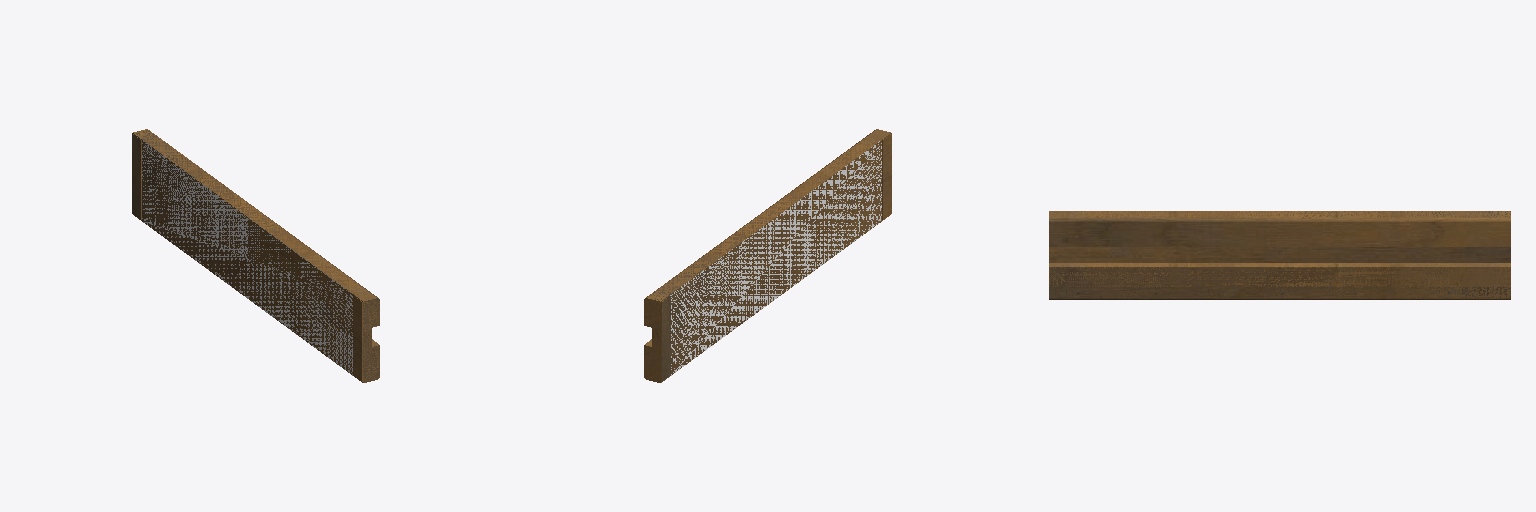
3 views of the same model, side by side, from view 1: azimuth 30°, elevation 25°; view 2: azimuth 150°, elevation 25°; view 3: azimuth 270°, elevation 25° (orthographic).
Visible parts, largest first — view 1: parete_cassetto2/parete_cassetto/mesh18/mesh18-geometry#mesh18-g; view 2: parete_cassetto2/parete_cassetto/mesh18/mesh18-geometry#mesh18-g; view 3: parete_cassetto2/parete_cassetto/mesh18/mesh18-geometry#mesh18-g.
Part boxes in pixels (left/top/right/bottom): parete_cassetto2/parete_cassetto/mesh18/mesh18-geometry#mesh18-g: left=132, top=129, right=379, bottom=382; parete_cassetto2/parete_cassetto/mesh18/mesh18-geometry#mesh18-g: left=644, top=129, right=891, bottom=382; parete_cassetto2/parete_cassetto/mesh18/mesh18-geometry#mesh18-g: left=1049, top=211, right=1510, bottom=299.
Bounding box in the file's own units: 0.0214 × 0.0973 × 0.498.
3 materials, 1 textured.